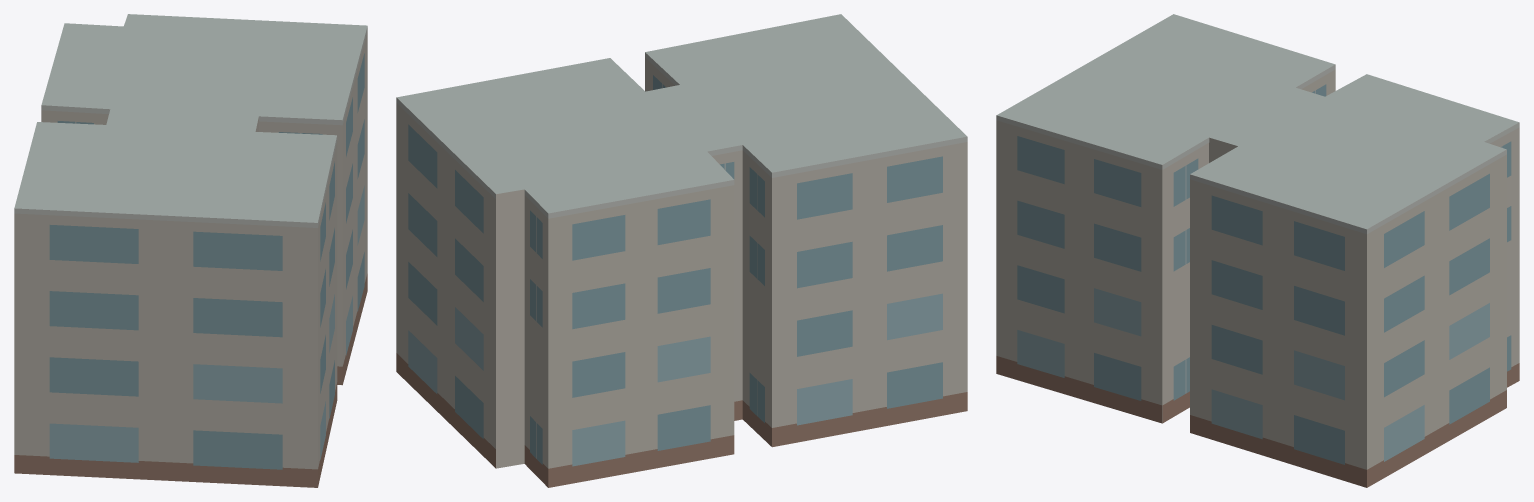
The model's file is survey-upis-32599609.glb.
The picture shows the model from 3 angles, left to right: view 1: azimuth 30°, elevation 25°; view 2: azimuth 150°, elevation 25°; view 3: azimuth 270°, elevation 25°; orthographic projection. The views are drawn at different scales.
Parts seen in each view (by area): view 1: survey-upis-32599609.tmp; view 2: survey-upis-32599609.tmp; view 3: survey-upis-32599609.tmp.
Boxes of the visible parts, <box> form: survey-upis-32599609.tmp: <box>14,14,367,487</box>; survey-upis-32599609.tmp: <box>396,14,967,487</box>; survey-upis-32599609.tmp: <box>996,14,1519,487</box>.
Bounding box in the file's own units: 22.7 × 12.7 × 23.3.
